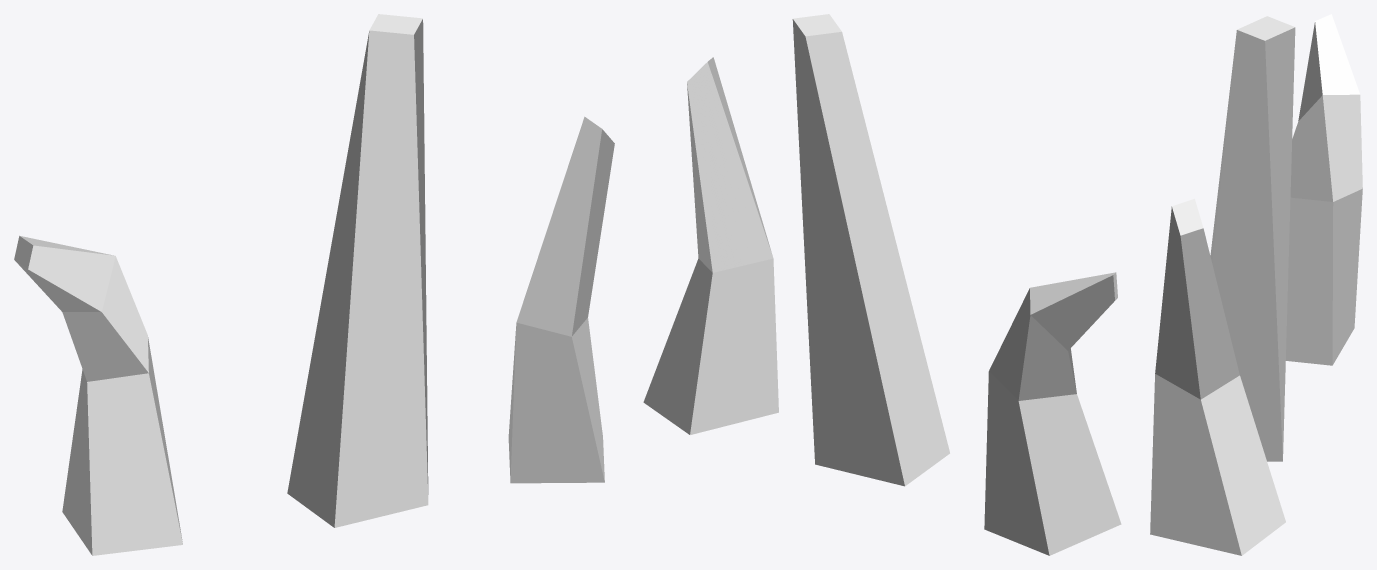
Rendered from GrassWinter1_Alt1.fbx.
3 views of the same model, side by side, from view 1: azimuth 30°, elevation 25°; view 2: azimuth 150°, elevation 25°; view 3: azimuth 270°, elevation 25° (orthographic). The views are drawn at different scales.
Parts seen in each view (by area): view 1: GrassWinter1_Alt1; view 2: GrassWinter1_Alt1; view 3: GrassWinter1_Alt1.
Part boxes in pixels (box(x1,y1,x2,y2)): GrassWinter1_Alt1: box(14, 14, 614, 555); GrassWinter1_Alt1: box(643, 14, 1121, 555); GrassWinter1_Alt1: box(1150, 14, 1362, 555).
Size of the model in its own units: 0.327 by 0.2606 by 0.1152.
